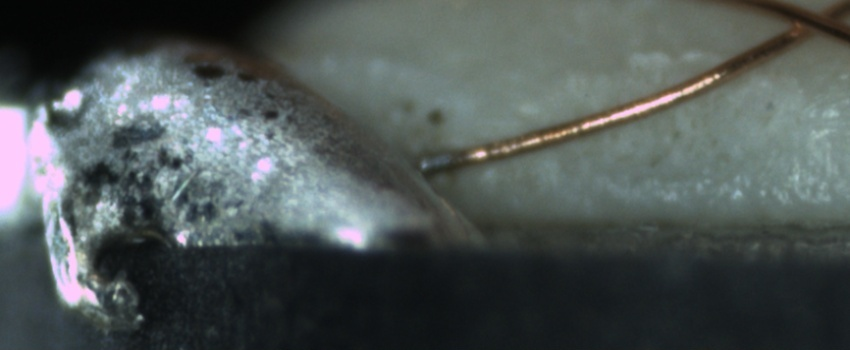CL: (766, 1, 845, 46)
TS: (416, 151, 457, 175)
